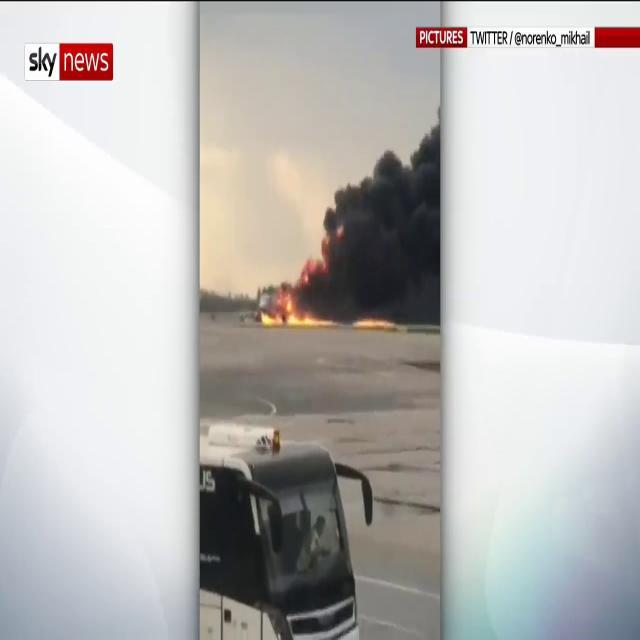Fire: (258, 296, 336, 333)
Smoke: (298, 138, 440, 320)
